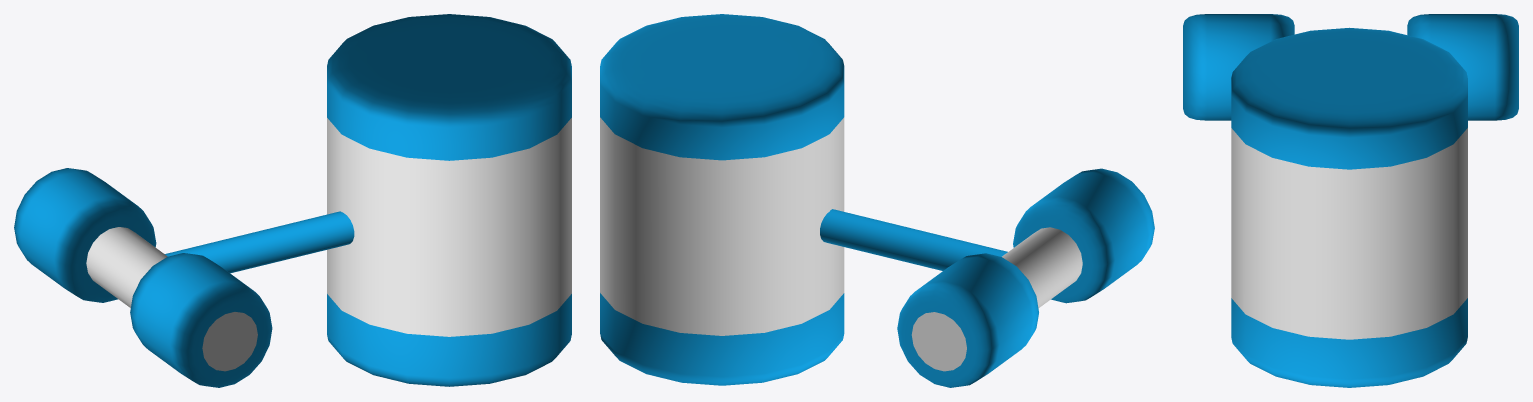
File: Yetus_MESH.fbx
The picture shows the model from 3 angles, left to right: view 1: azimuth 30°, elevation 25°; view 2: azimuth 150°, elevation 25°; view 3: azimuth 270°, elevation 25°; orthographic projection. The views are drawn at different scales.
Visible parts, largest first — view 1: Yett_MESH; view 2: Yett_MESH; view 3: Yett_MESH.
Boxes of the visible parts, x1,y1,x2,y2 form: Yett_MESH: (14,14,571,387); Yett_MESH: (600,14,1154,387); Yett_MESH: (1183,14,1518,387).
Bounding box in the file's own units: 49.5 × 28.73 × 32.32.
